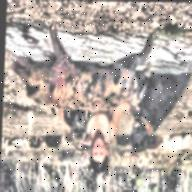boar: (8, 23, 159, 114)
